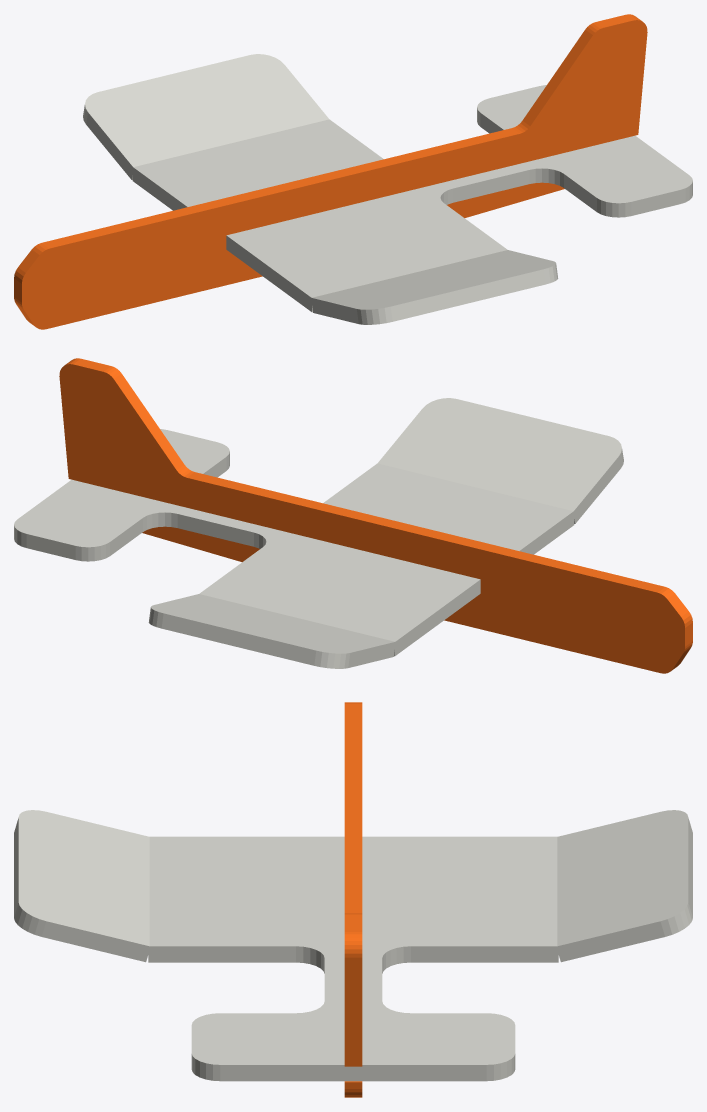
3 views of the same model, one above another, from view 1: azimuth 30°, elevation 25°; view 2: azimuth 150°, elevation 25°; view 3: azimuth 270°, elevation 25° (orthographic). The views are drawn at different scales.
Visible parts, largest first — view 1: H, V; view 2: H, V; view 3: H, V.
Boxes of the visible parts, x1,y1,x2,y2 form: H: [83, 54, 692, 324]; V: [14, 14, 647, 329]; H: [14, 398, 623, 668]; V: [59, 358, 692, 673]; H: [14, 810, 692, 1081]; V: [344, 702, 362, 1097].
Size of the model in its own units: 0.2295 by 0.058 by 0.1887.
